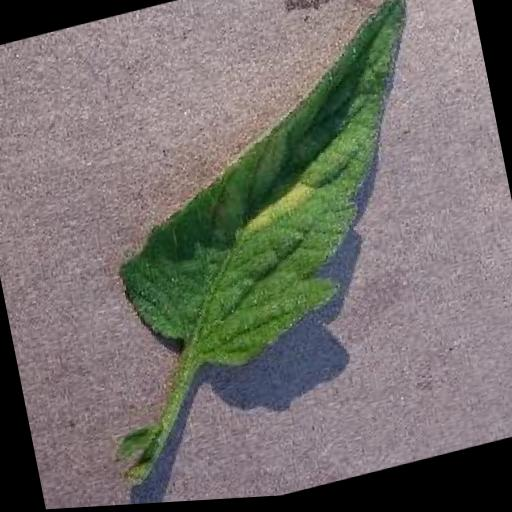Leaf Mold: (79, 0, 469, 397)
